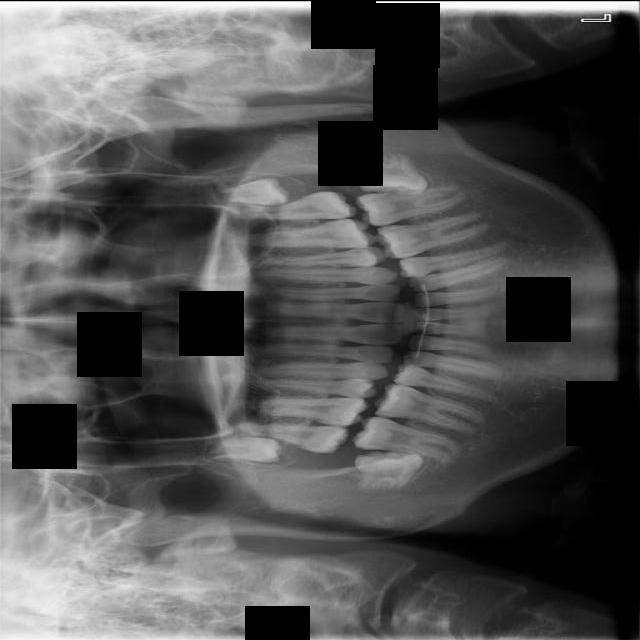3M ESPE Implant: (211, 434, 284, 462)
73: (579, 18, 602, 30)
BioHorizons Implant: (234, 190, 358, 221)
BioLife Implant: (221, 174, 293, 206)
Biomet 3i Implant: (358, 150, 430, 195)
Blue Sky Bio Implant: (354, 183, 470, 228)
Caries: (237, 421, 350, 454)
Implant: (351, 411, 465, 466)
Keystone Dental Implant: (354, 446, 426, 493)
